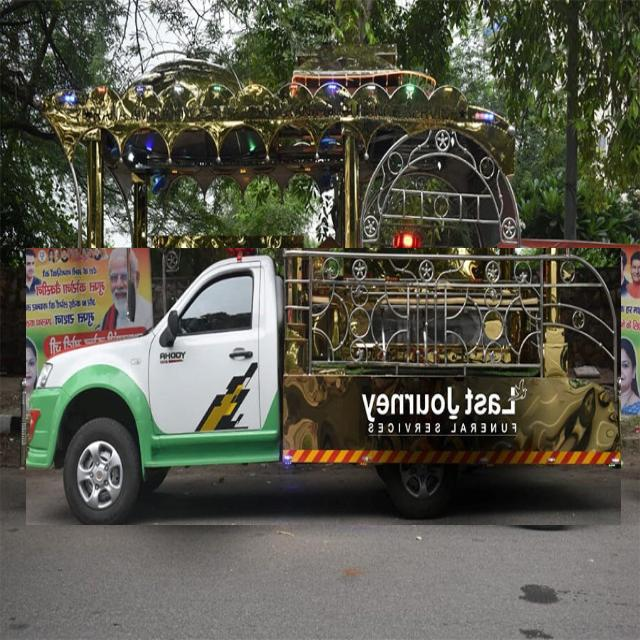truck: (26, 249, 621, 525)
